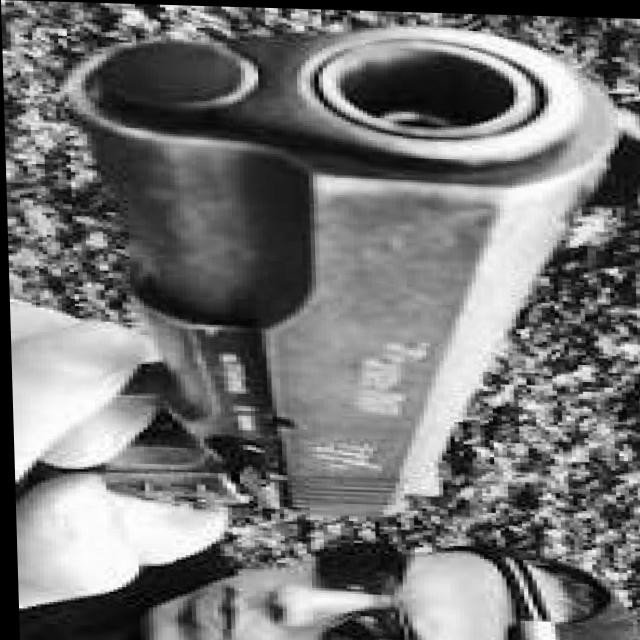handgun: (72, 19, 640, 518)
